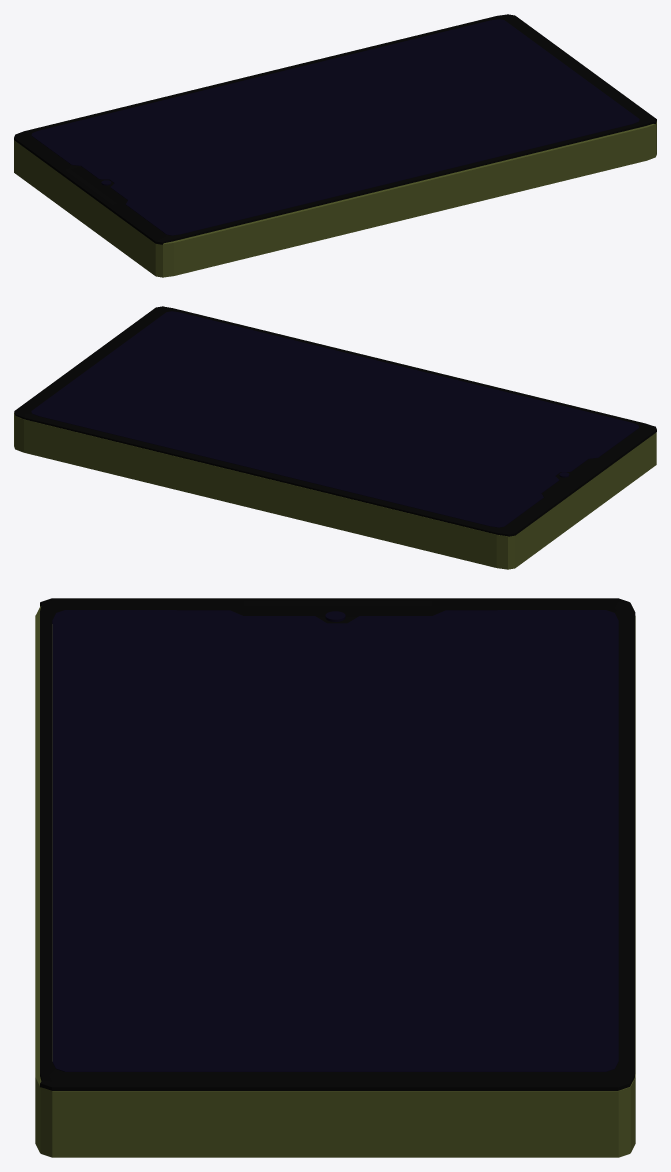
The model's file is telephone.003.glb.
The picture shows the model from 3 angles, top to bottom: view 1: azimuth 30°, elevation 25°; view 2: azimuth 150°, elevation 25°; view 3: azimuth 270°, elevation 25°; orthographic projection. The views are drawn at different scales.
Visible parts, largest first — view 1: Telephone; view 2: Telephone; view 3: Telephone.
Part boxes in pixels (x1=…): Telephone: x1=14, y1=14, x2=656, y2=277; Telephone: x1=14, y1=306, x2=656, y2=569; Telephone: x1=35, y1=598, x2=635, y2=1157.
Bounding box in the file's own units: 5.15 × 0.3932 × 2.67.
